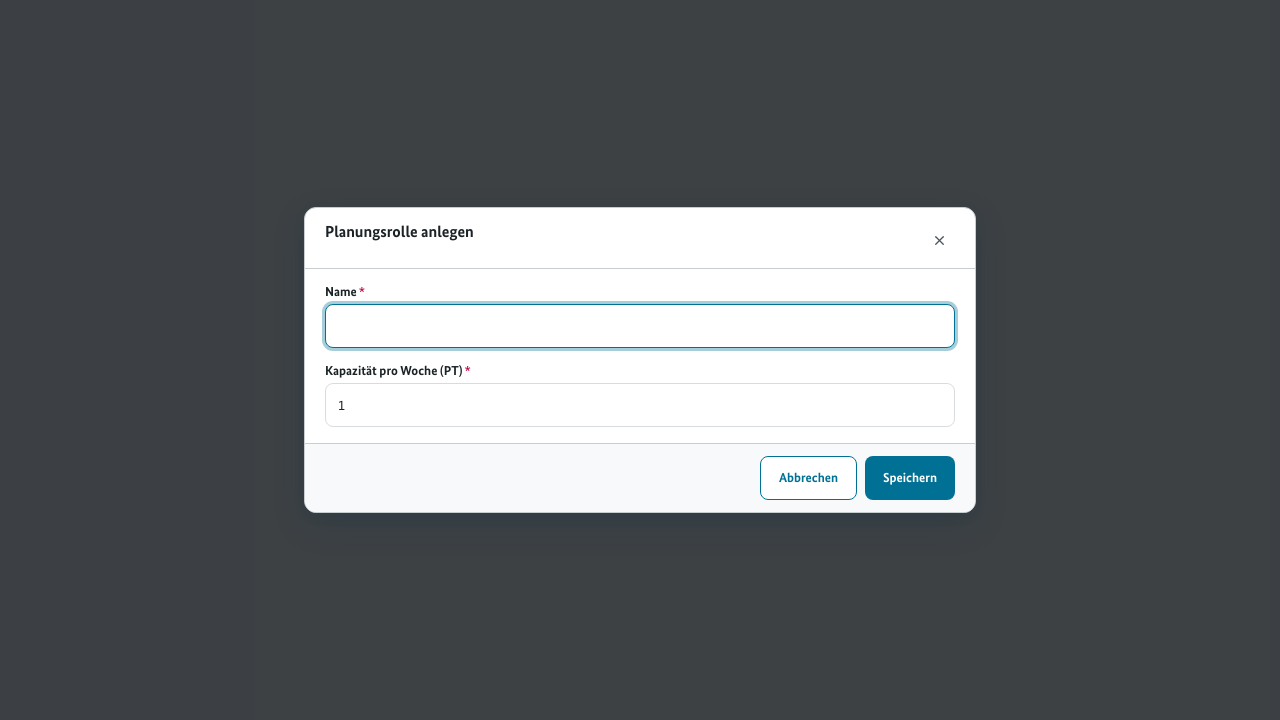
Scenario: PlanningRoleFormDialog › shows validation error when name is empty on submit
Expected: the dialog is shown, [304,207,976,513]
Step 1. Click the button "Speichern" → [910, 478], box [865,456,955,500]
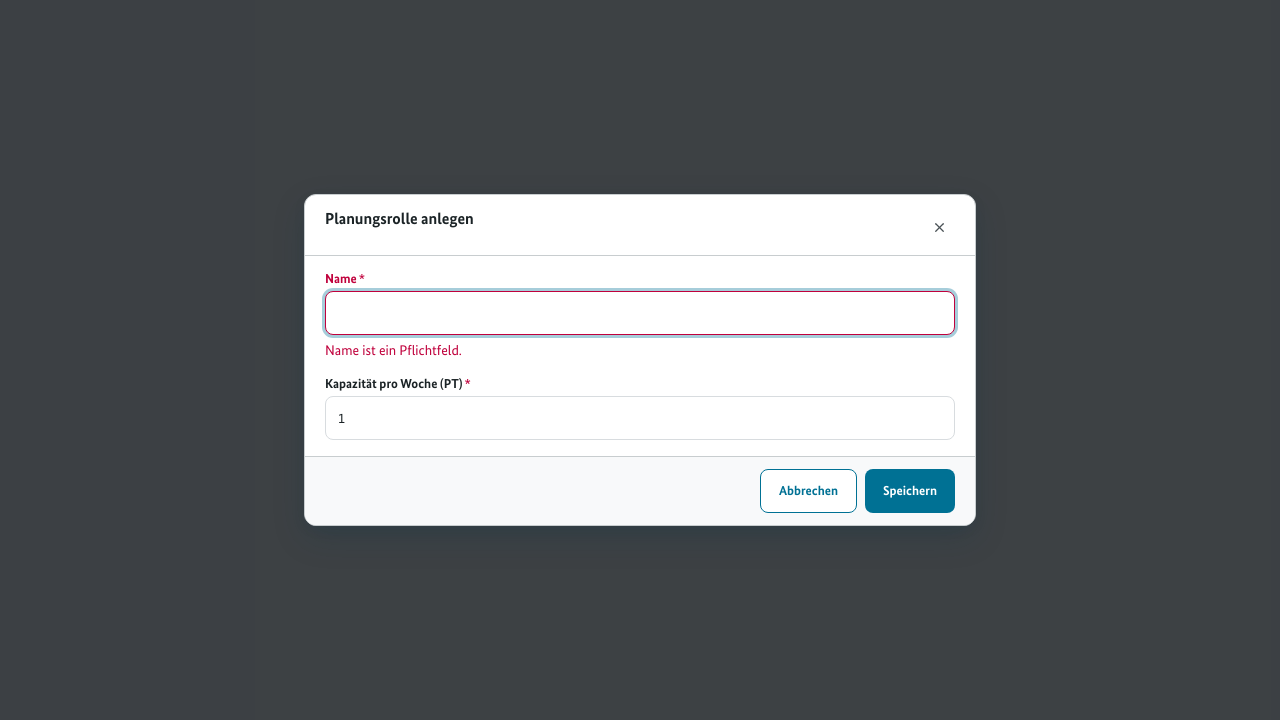
Now the text "Name ist ein Pflichtfeld." is shown, box [325,342,462,359]
